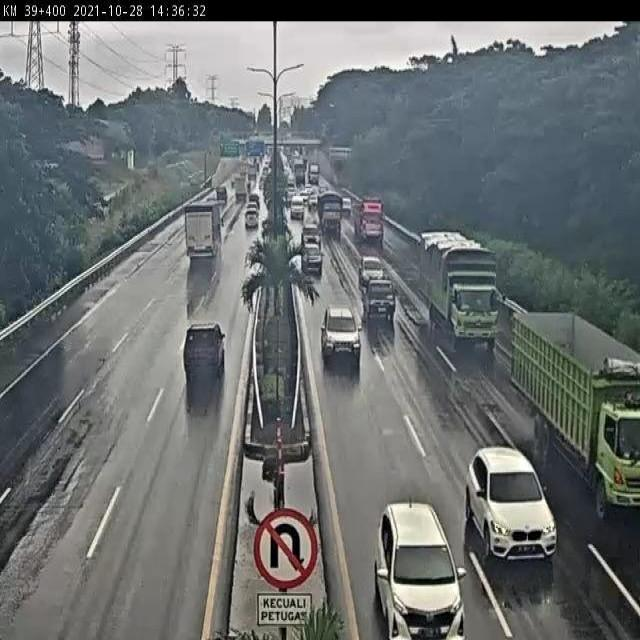big truck: (509, 312, 640, 505), (418, 230, 500, 350), (181, 200, 223, 257), (350, 193, 386, 246), (317, 192, 343, 236)
car: (374, 502, 466, 640), (464, 441, 560, 559), (319, 306, 362, 366), (184, 323, 227, 368), (361, 275, 396, 321), (359, 256, 383, 287), (300, 241, 322, 272), (300, 223, 320, 248), (243, 205, 260, 232)
